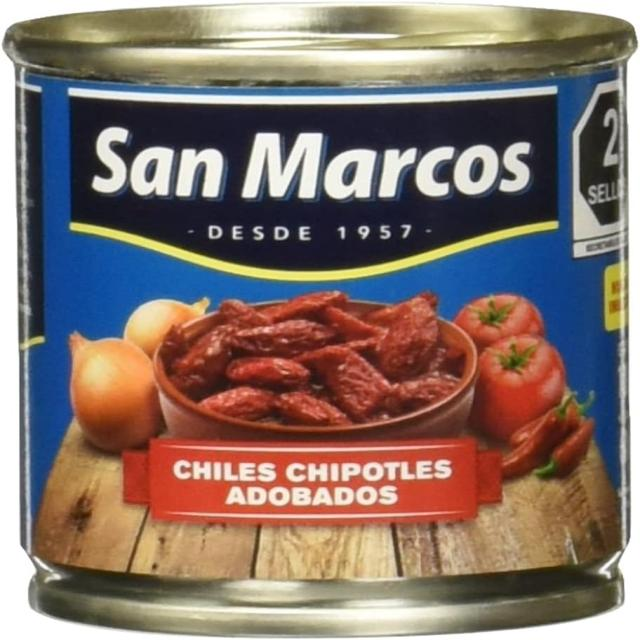Lata: (7, 4, 632, 625)
